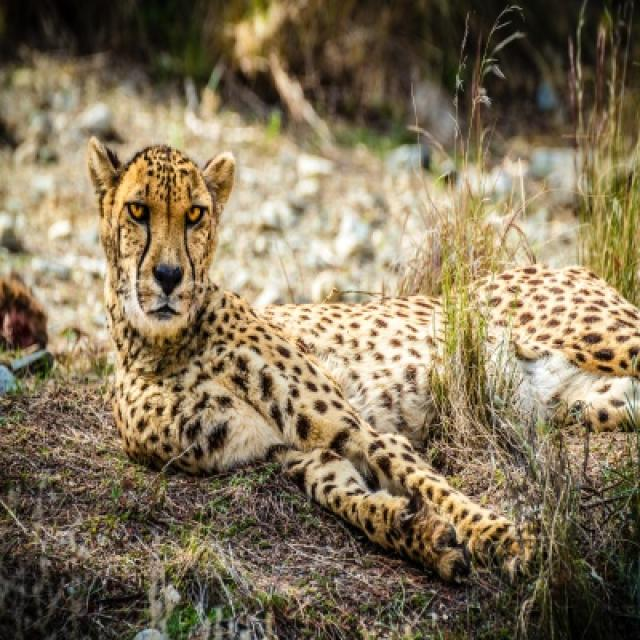Cheetah: (84, 135, 638, 578)
